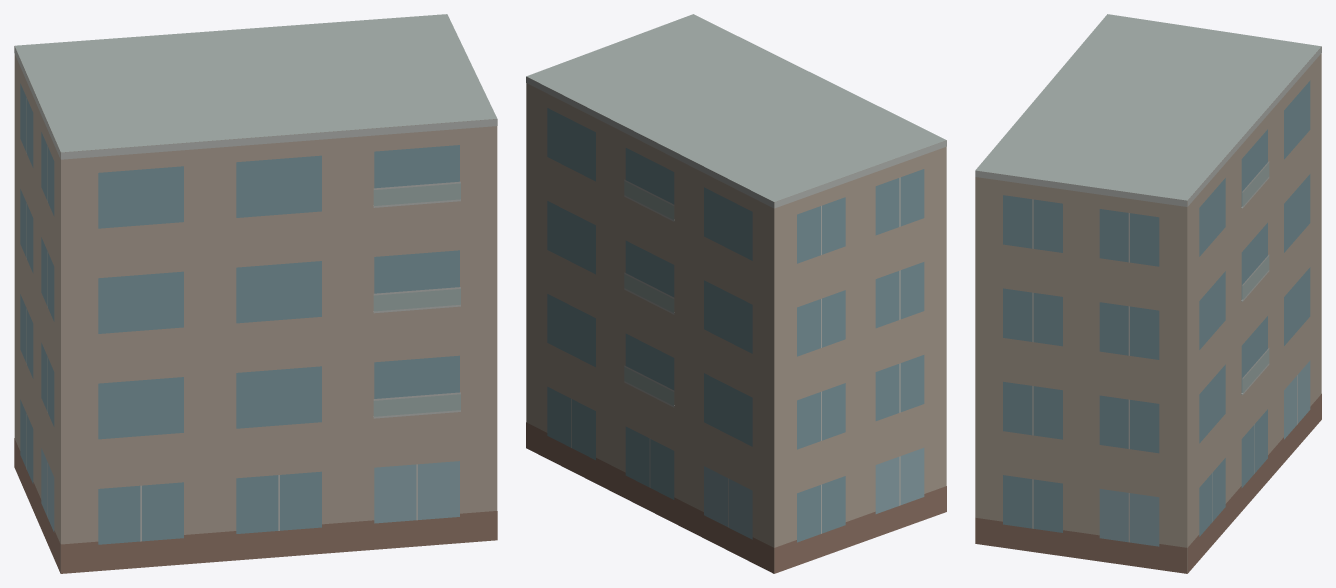
Rendered from survey-upis-32470656.glb.
The picture shows the model from 3 angles, left to right: view 1: azimuth 30°, elevation 25°; view 2: azimuth 150°, elevation 25°; view 3: azimuth 270°, elevation 25°; orthographic projection. The views are drawn at different scales.
Parts seen in each view (by area): view 1: survey-upis-32470656.tmp; view 2: survey-upis-32470656.tmp; view 3: survey-upis-32470656.tmp.
Part boxes in pixels (<box>): survey-upis-32470656.tmp: <box>14,14,497,573</box>; survey-upis-32470656.tmp: <box>526,14,946,573</box>; survey-upis-32470656.tmp: <box>975,14,1321,573</box>.
Bounding box in the file's own units: 15.13 × 14.1 × 11.88.
